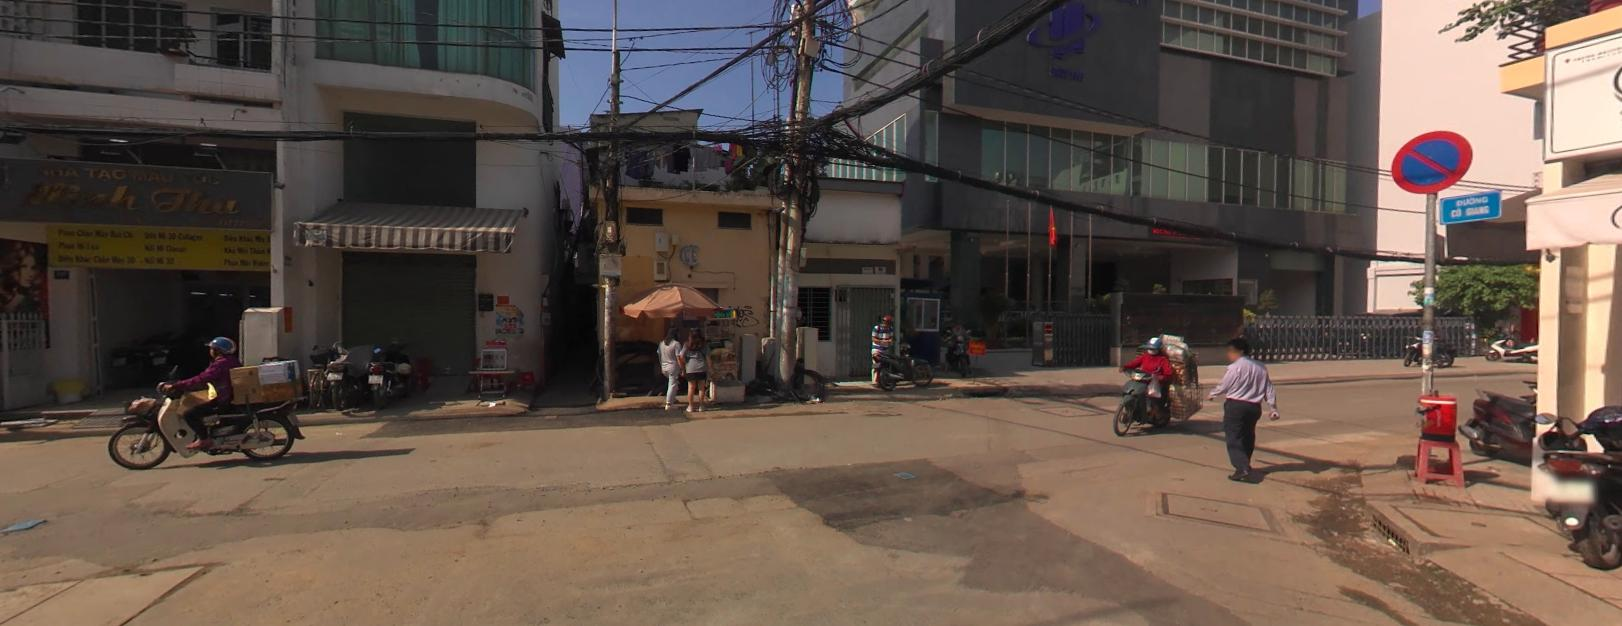Cam dung va do: (1392, 127, 1475, 193)
